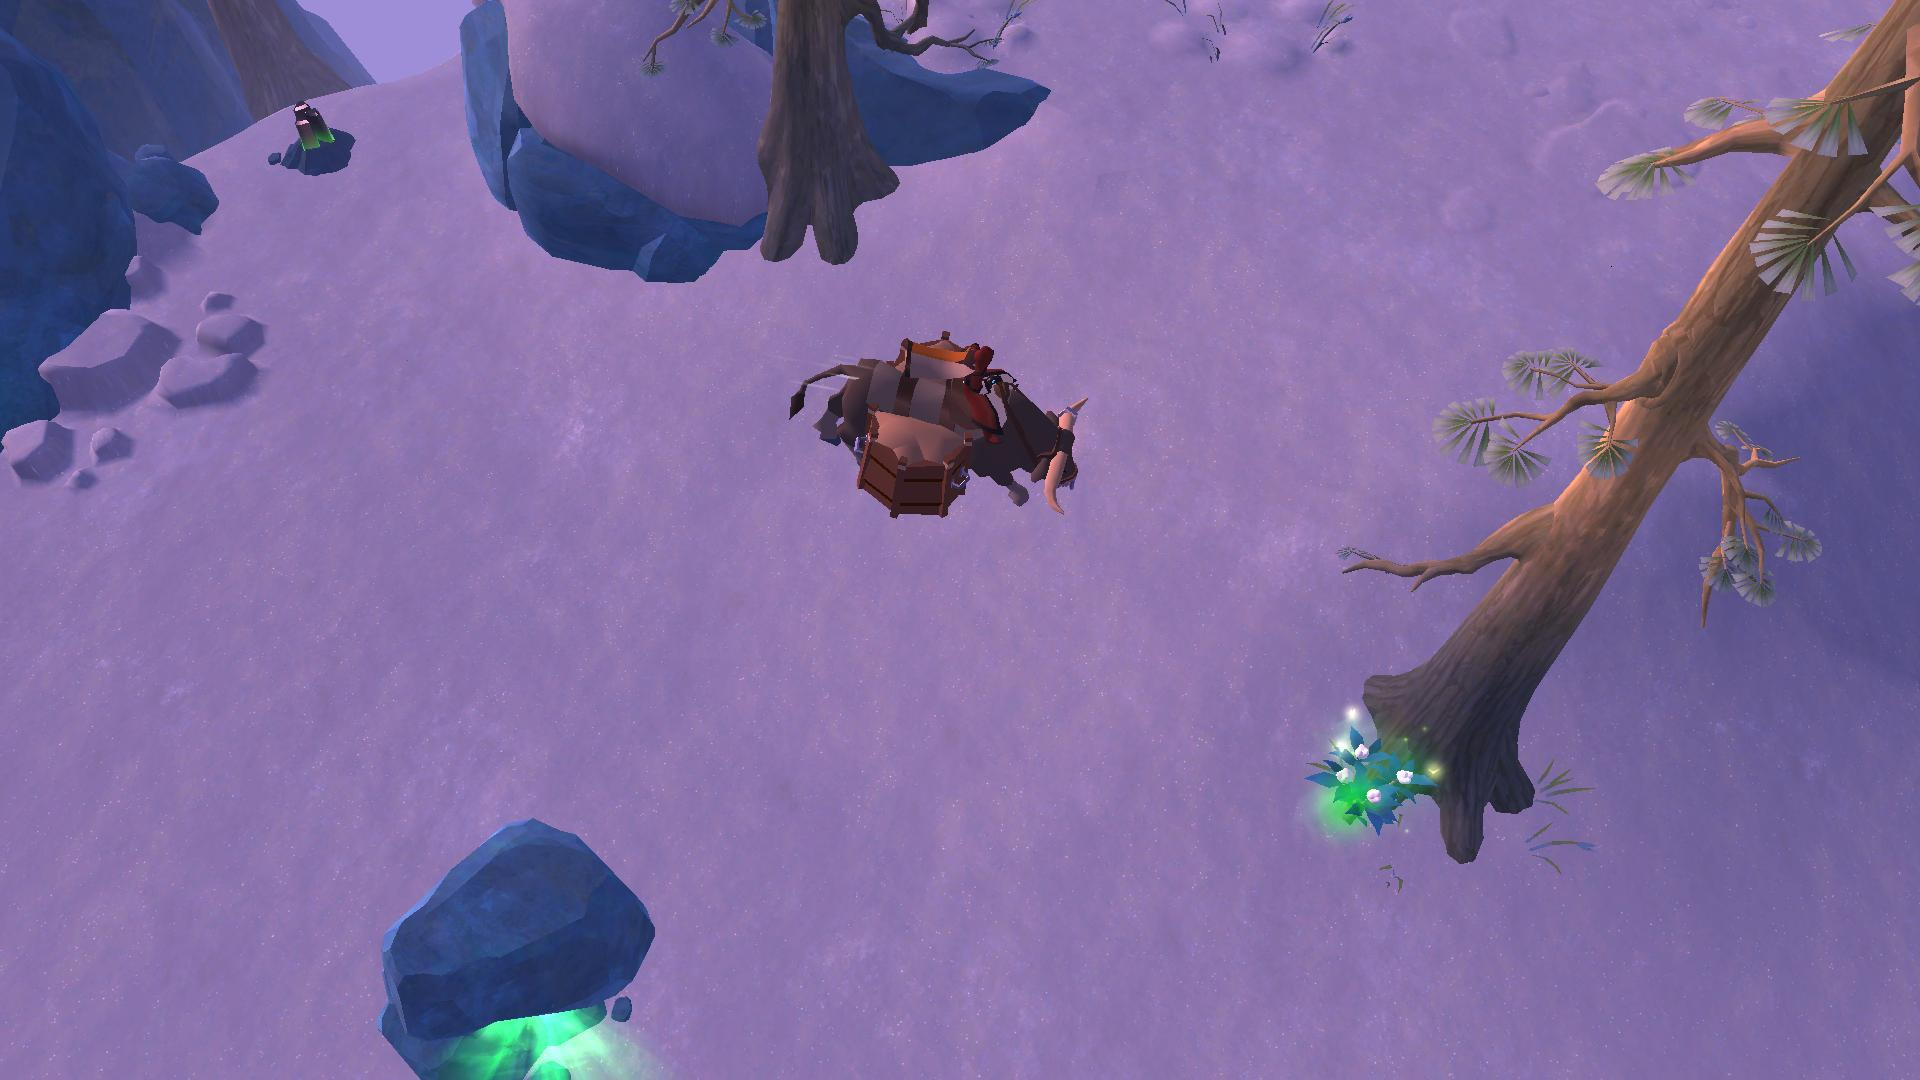fiber_t4: (1308, 716, 1429, 831)
ore_t3: (281, 96, 334, 160)
